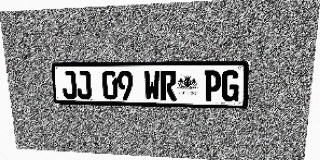0: (102, 71, 118, 100)
9: (117, 70, 133, 100)
G: (221, 70, 240, 102)
J: (61, 71, 77, 99), (76, 71, 92, 99)
P: (204, 70, 222, 102)
R: (160, 70, 177, 101)
W: (144, 70, 160, 100)
